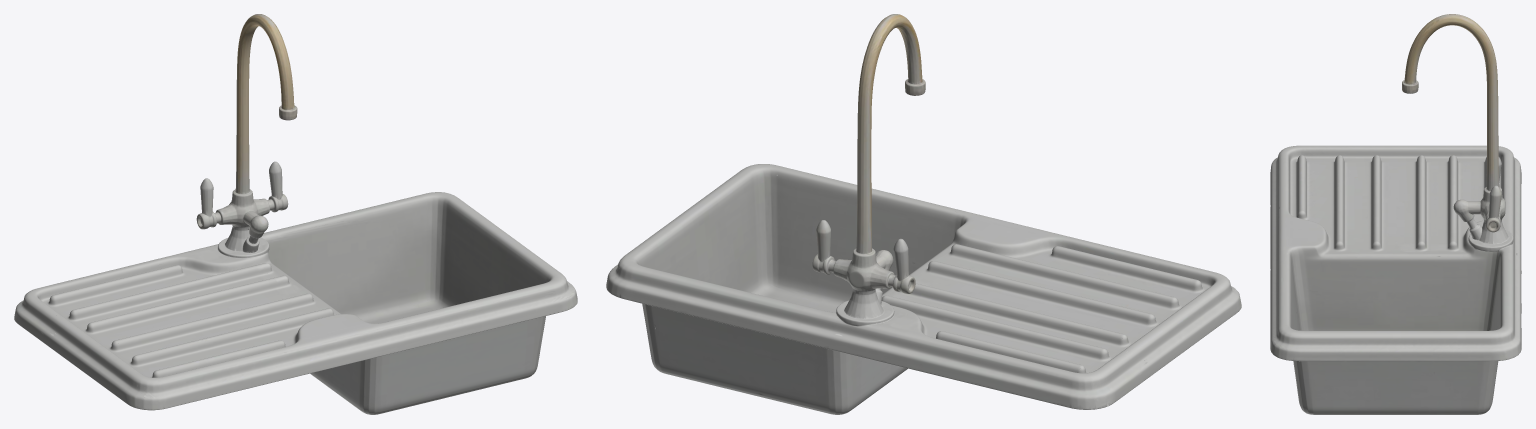
The picture shows the model from 3 angles, left to right: view 1: azimuth 30°, elevation 25°; view 2: azimuth 150°, elevation 25°; view 3: azimuth 270°, elevation 25°; orthographic projection. The views are drawn at different scales.
Parts seen in each view (by area): view 1: material; view 2: material; view 3: material.
Boxes of the visible parts, bbox=[...] form: material: bbox=[14, 14, 577, 414]; material: bbox=[606, 14, 1241, 414]; material: bbox=[1270, 14, 1521, 414].
Size of the model in its own units: 1.03 by 0.7934 by 0.5494.
1 material, 1 textured.
